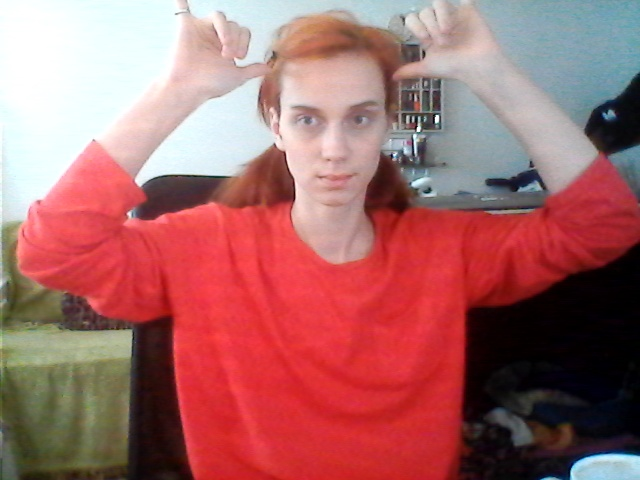krava: (143, 1, 504, 107)
